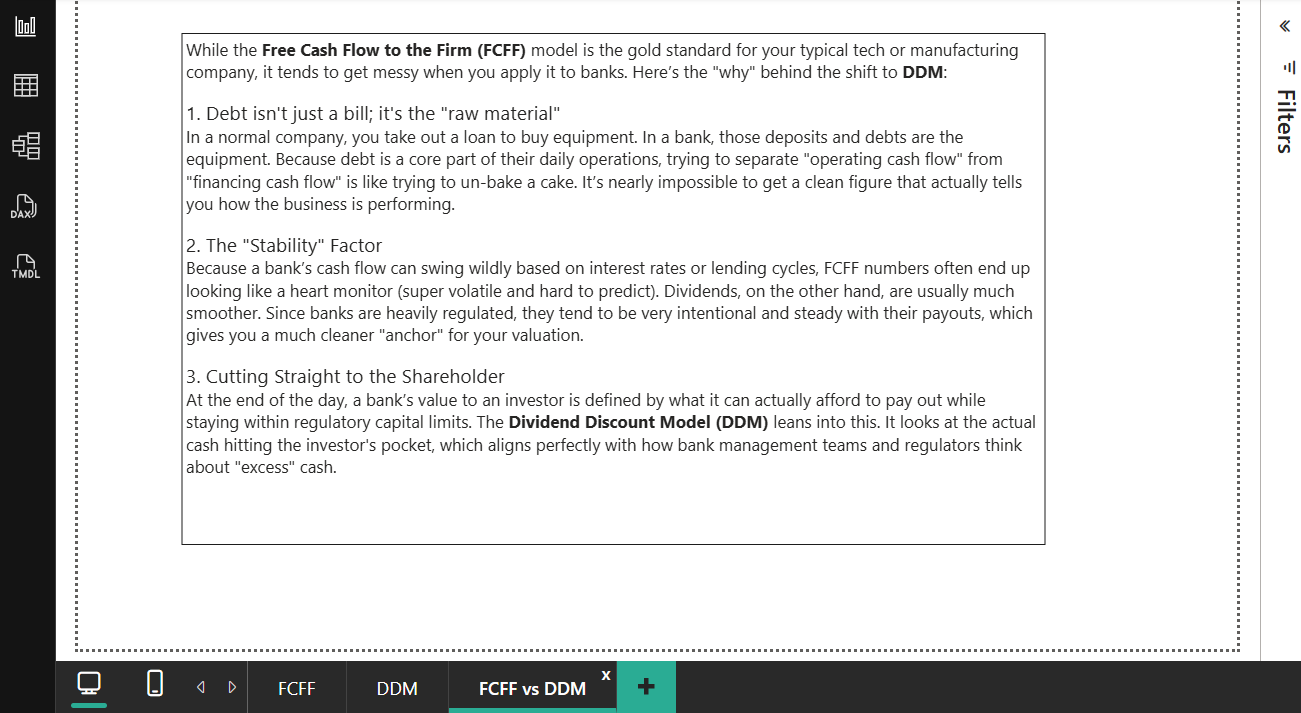

What the dashboard file says about the page in this screenshot:
{"tool":"powerbi","page":{"name":"FCFF vs DDM","canvas":[1280,720],"ordinal":2},"visuals":[{"type":"textbox","box":[114.3,39.8,954.1,564.9],"z":0}]}

Visuals, with their boxes on the page's 1280x720 design canvas (x1, y1, x2, y2). These are canvas units, not pixel positions in the 1301x713 screenshot, which may show the page scaled, cropped or inside an application window:
textbox: 114, 40, 1068, 605
